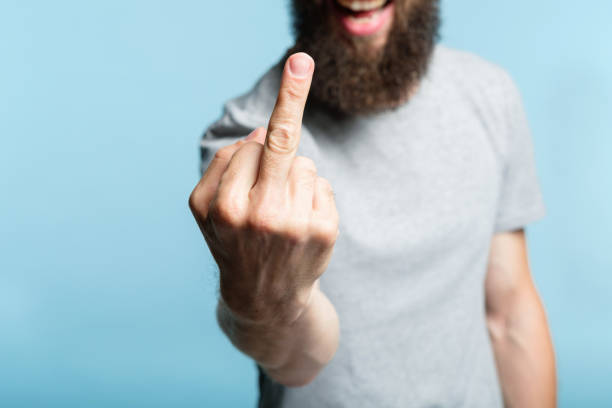insulting_gesture: (188, 50, 340, 306)
